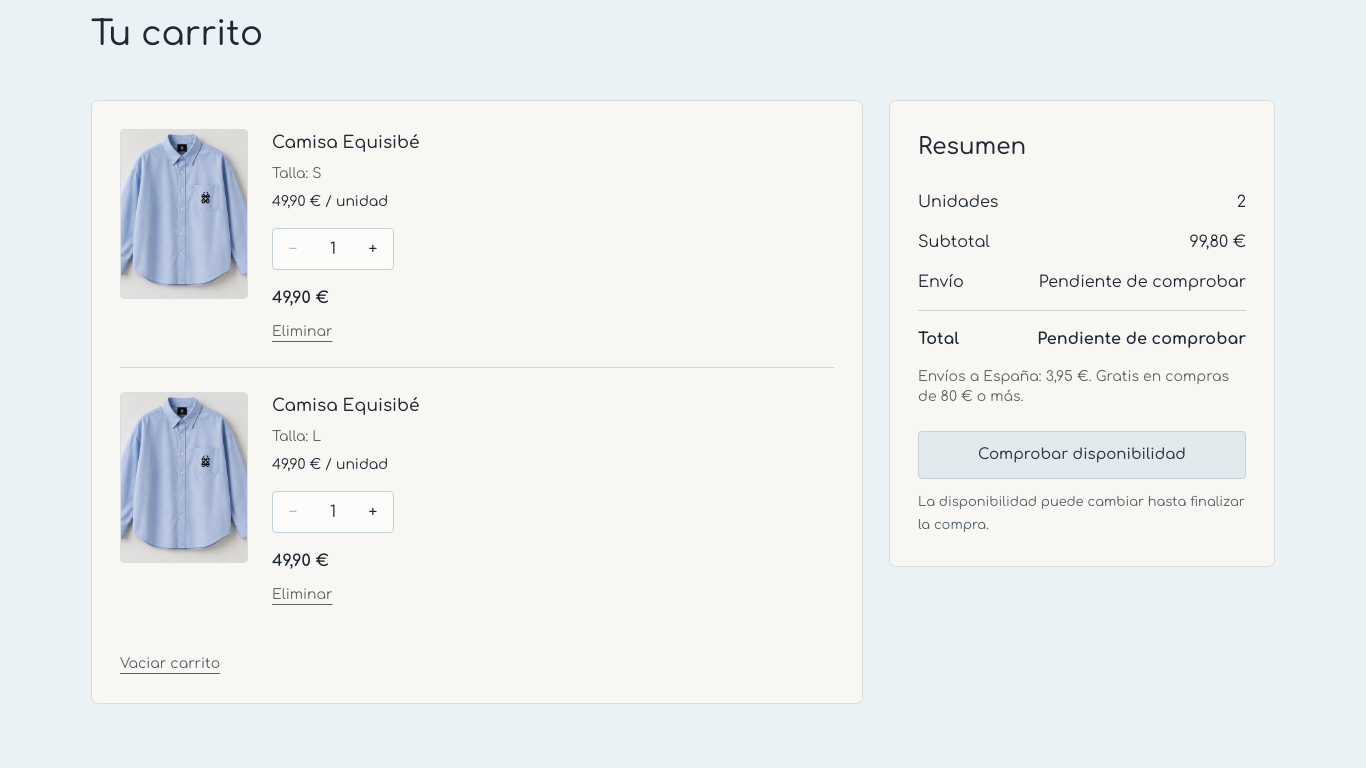
CartView › clears all items
The image size is (1366, 768).
(page scrolled)
Click the button "Vaciar carrito" at (170, 664), box [120,654,220,674]
(page scrolled)
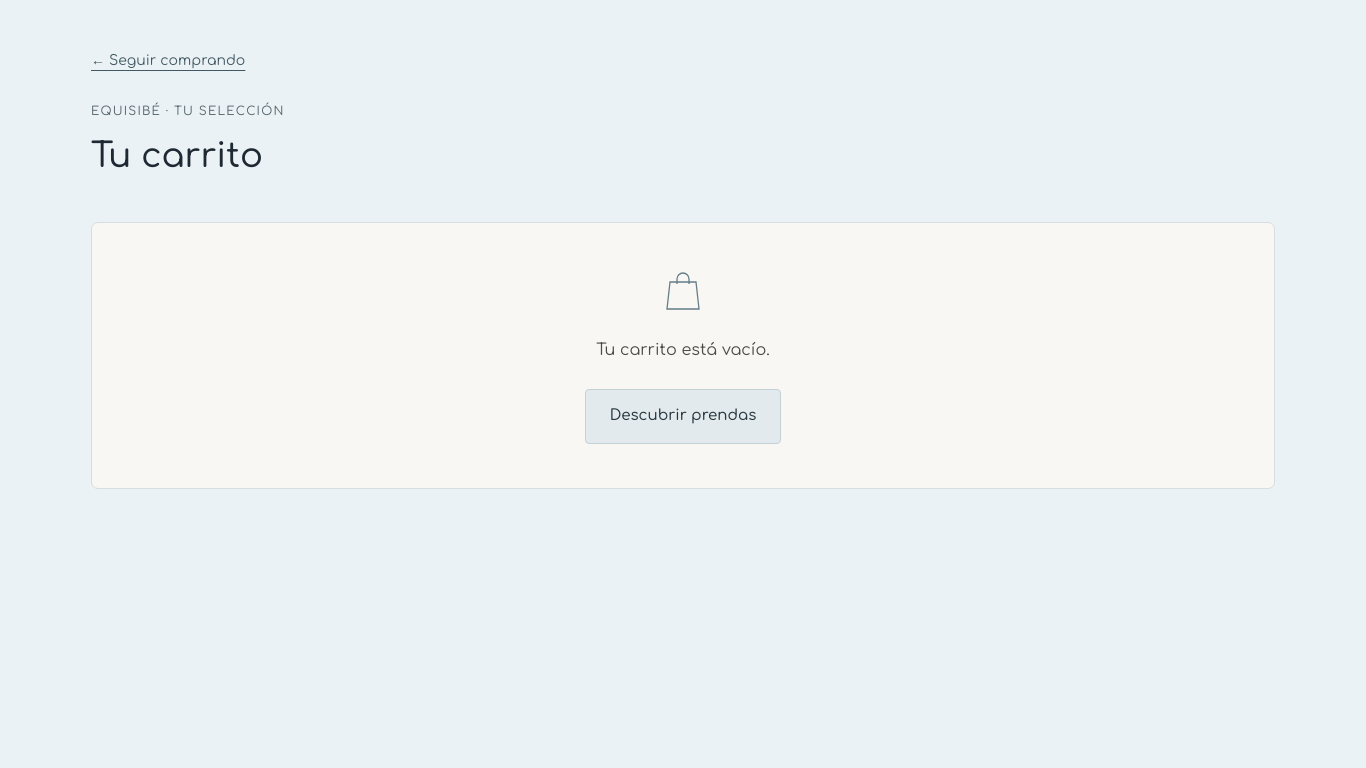
Now the message "Tu carrito está vacío." is shown, box [596,341,770,359]
